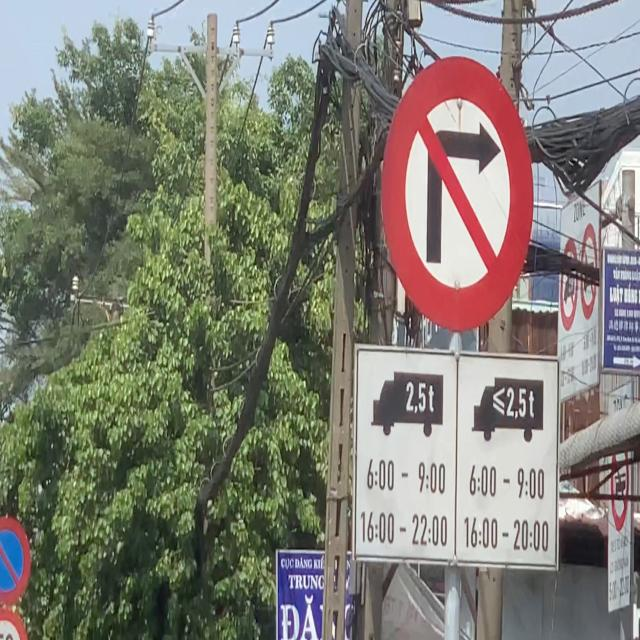Cam do: (0, 516, 31, 606)
Cam re phai: (382, 55, 534, 333)
